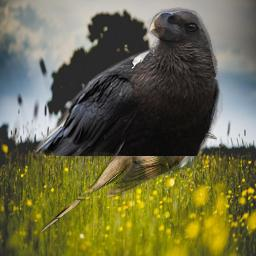Crow: (31, 6, 223, 156)
Cuckoo: (40, 119, 217, 233)
